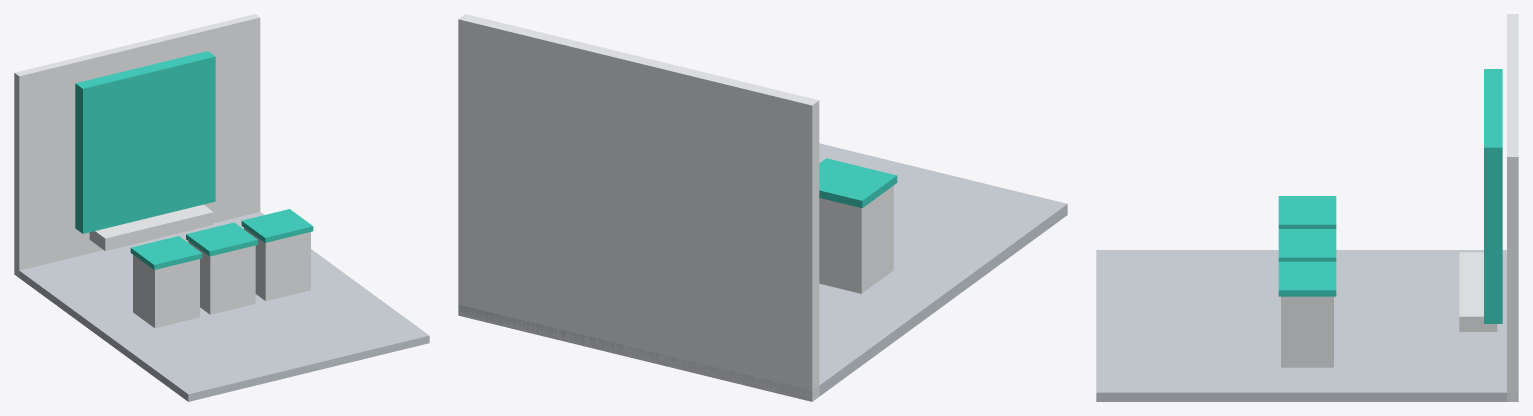
3 views of the same model, side by side, from view 1: azimuth 30°, elevation 25°; view 2: azimuth 150°, elevation 25°; view 3: azimuth 270°, elevation 25° (orthographic). The views are drawn at different scales.
Visible parts, largest first — view 1: Exhibition Booth Concept; view 2: Exhibition Booth Concept; view 3: Exhibition Booth Concept.
Part boxes in pixels (x1=…): Exhibition Booth Concept: x1=14, y1=14, x2=429, y2=401; Exhibition Booth Concept: x1=458, y1=14, x2=1067, y2=401; Exhibition Booth Concept: x1=1096, y1=14, x2=1518, y2=401.
Bounding box in the file's own units: 4 × 3.2 × 5.
